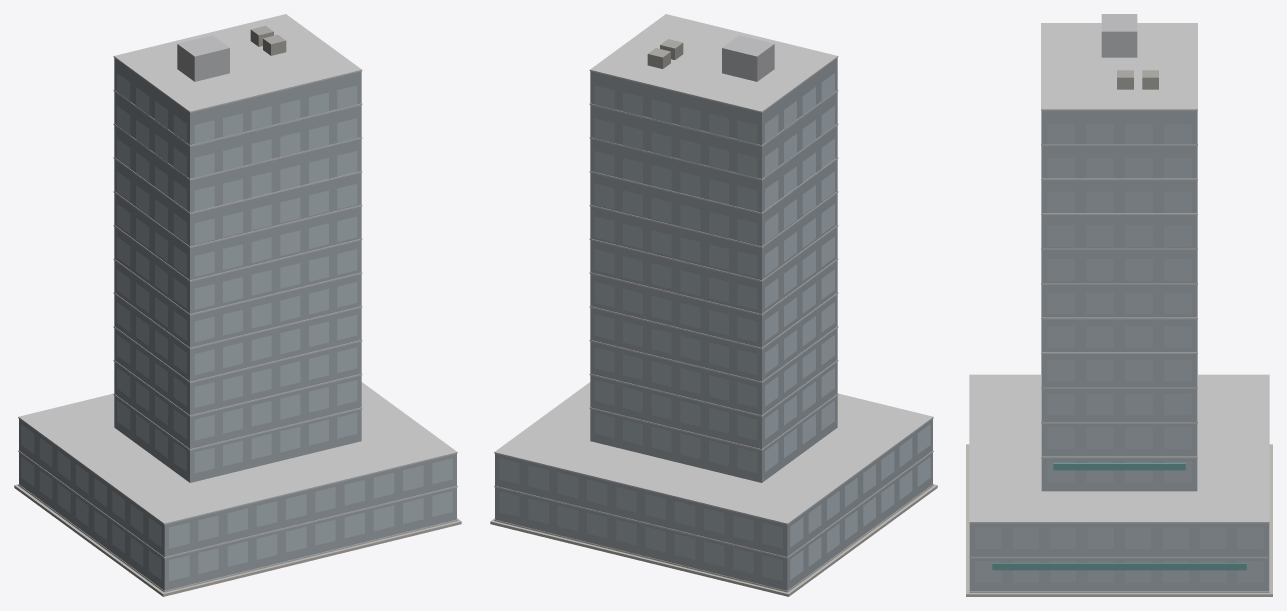
Rendered from 13_office_commerce-09.glb.
3 views of the same model, side by side, from view 1: azimuth 30°, elevation 25°; view 2: azimuth 150°, elevation 25°; view 3: azimuth 270°, elevation 25° (orthographic). The views are drawn at different scales.
Size of the model in its own units: 29.6 by 44.38 by 25.6.
